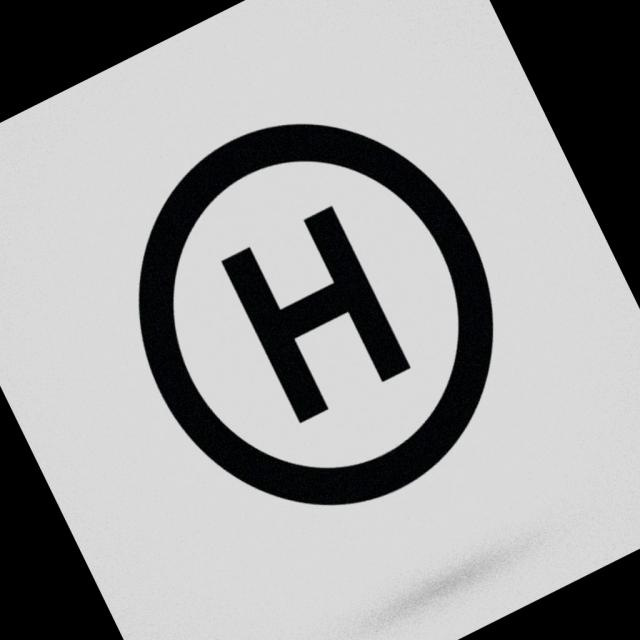helipad: (128, 112, 498, 510)
